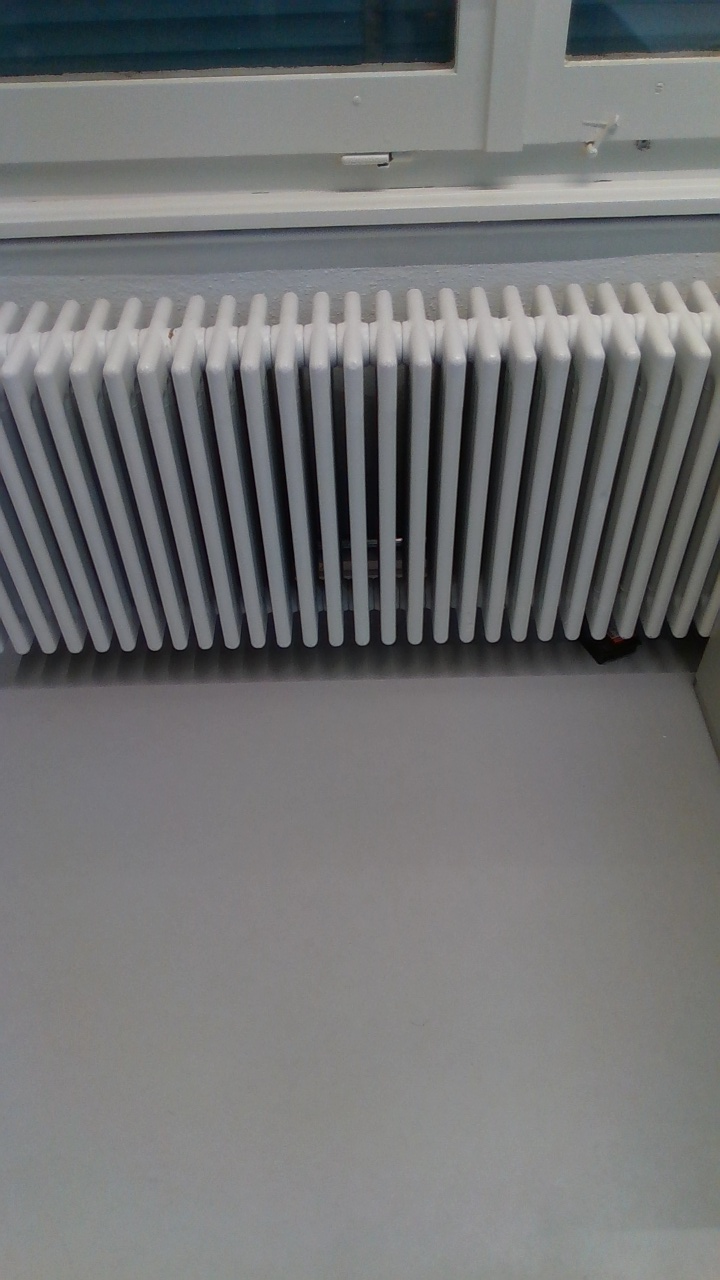Radiator: (1, 272, 706, 666)
